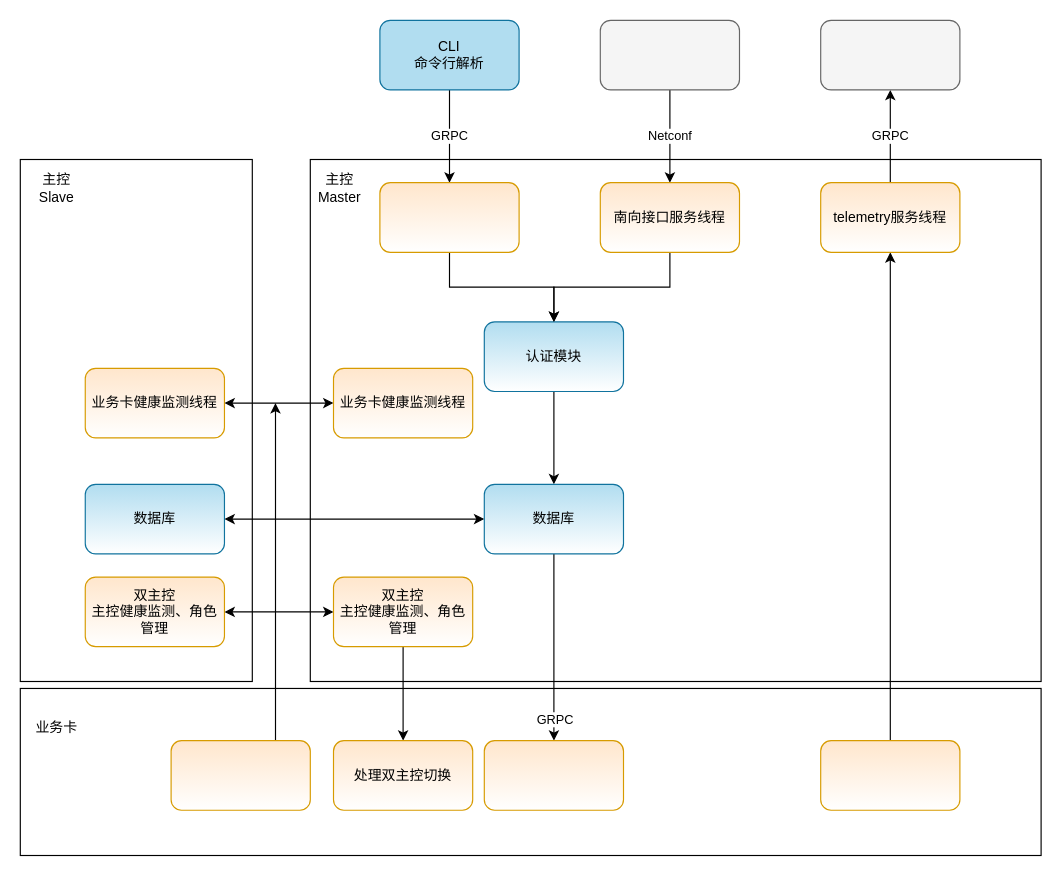
Some shapes in this 1061 by 876 pixel diagram are drawn without their labels. Here are the shapes that lost their labels. From the top down, the centre of each, then its label:
At point 669,54: "控制器".
At point 890,54: "telemetry服务器".
At point 449,217: "命令行解析线程".
At point 240,775: "板卡管理线程： 业务卡启动/在位等状态上报".
At point 553,775: "内部接口服务线程： 配置/查询消息".
At point 890,775: "telemetry遥测数据上报线程".
